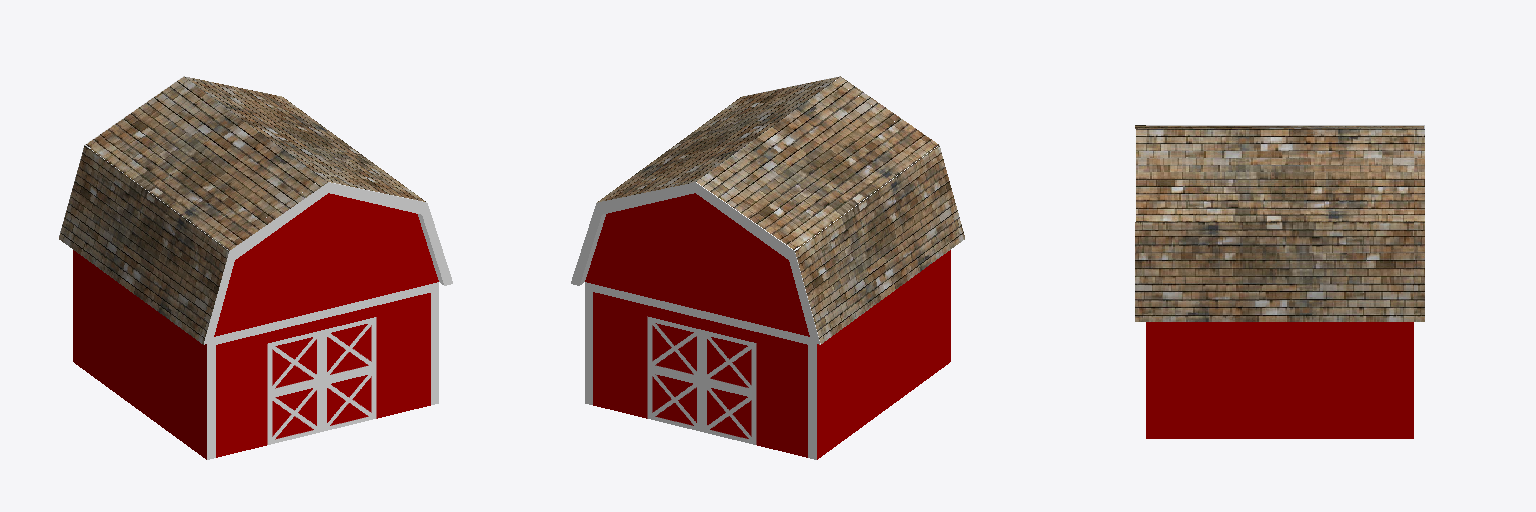
3 views of the same model, side by side, from view 1: azimuth 30°, elevation 25°; view 2: azimuth 150°, elevation 25°; view 3: azimuth 270°, elevation 25° (orthographic).
Size of the model in its own units: 2.16 by 2.09 by 2.16.
Materials: 1 (1 with a texture image).